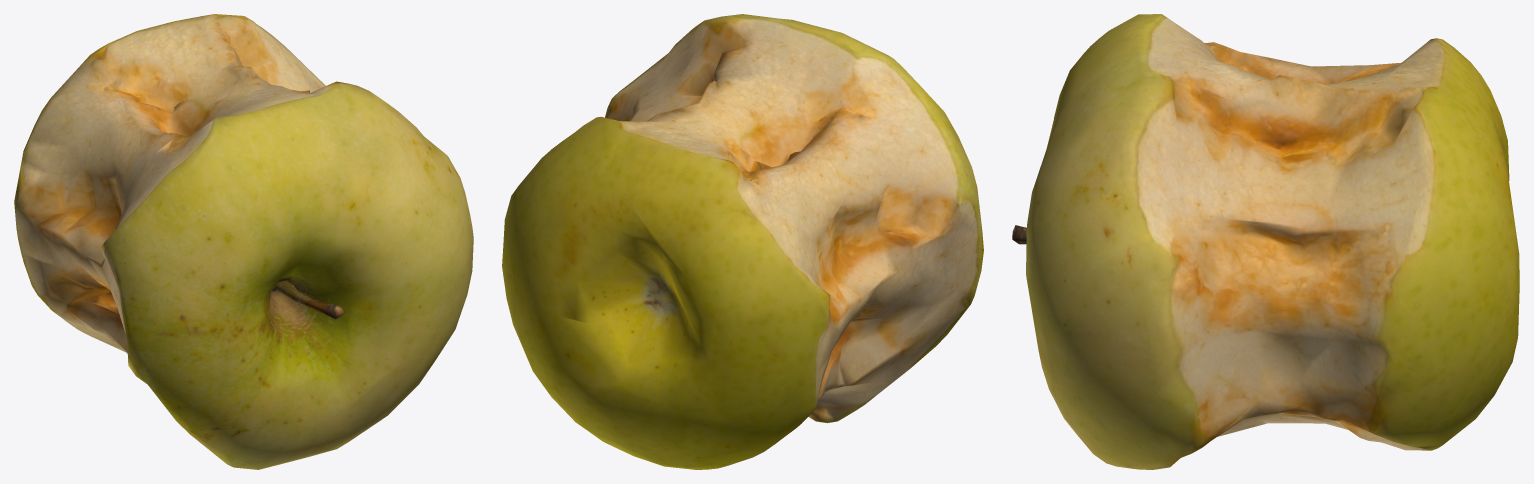
File: bitten_apple_mid.obj
3 renders of one model, left to right at view 1: azimuth 30°, elevation 25°; view 2: azimuth 150°, elevation 25°; view 3: azimuth 270°, elevation 25°, orthographic. The views are drawn at different scales.
Parts seen in each view (by area): view 1: tgyociqpa_LOD0_TIER2_000; view 2: tgyociqpa_LOD0_TIER2_000; view 3: tgyociqpa_LOD0_TIER2_000.
Part boxes in pixels (x1,y1,x2,y2): tgyociqpa_LOD0_TIER2_000: (14,14,473,469); tgyociqpa_LOD0_TIER2_000: (502,14,983,469); tgyociqpa_LOD0_TIER2_000: (1012,14,1519,469).
Size of the model in its own units: 0.8403 by 0.8182 by 0.8979.
Materials: 1 (1 with a texture image).
